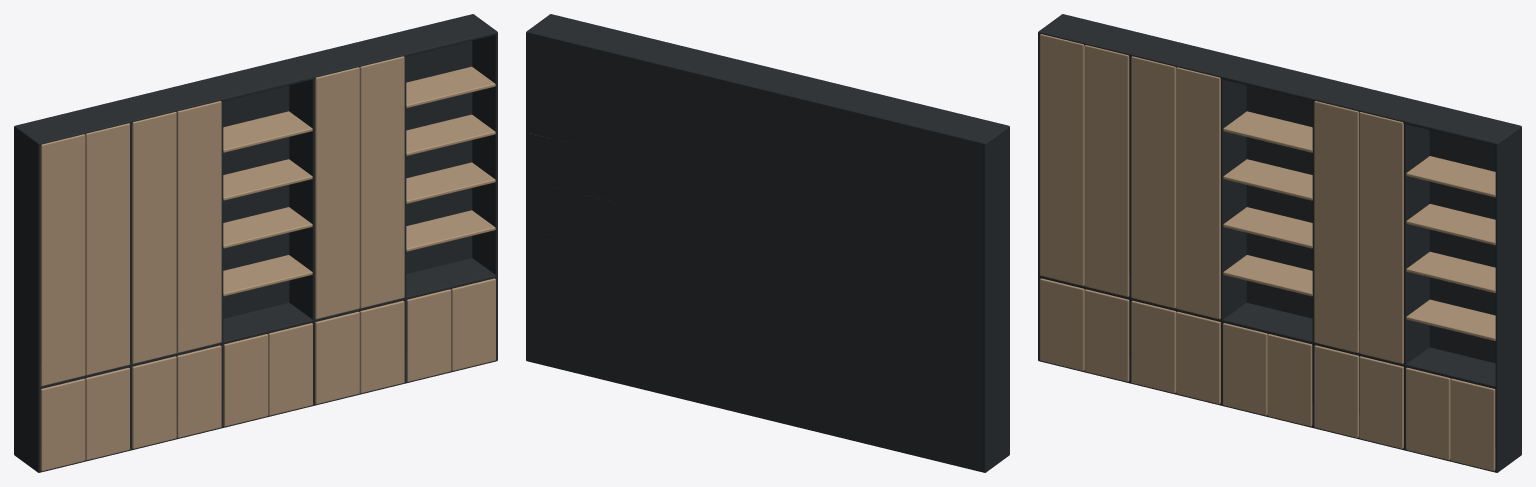
Rendered from 04_文件柜_独立办公室.glb.
3 renders of one model, left to right at view 1: azimuth 30°, elevation 25°; view 2: azimuth 150°, elevation 25°; view 3: azimuth 330°, elevation 25°, orthographic.
Parts seen in each view (by area): view 1: 柜背, 通长层板.002, 上柜门, 上柜门.005, 上柜门.001, 上柜门.004, 上柜门.002, 上柜门.003, 柜侧, 通长层板.001, 柜侧.005, 柜侧.003 (+22 smaller); view 2: 柜背, 通长层板.002, 柜侧, 通长层板, 柜侧.005; view 3: 柜背, 通长层板.002, 上柜门.002, 上柜门.001, 上柜门.003, 上柜门, 上柜门.004, 上柜门.005, 柜侧.005, 通长层板.001, 柜侧.002, 柜侧.004 (+22 smaller).
Part boxes in pixels (bbox=[...]): 柜背: bbox=[40, 41, 472, 446]; 通长层板.002: bbox=[16, 14, 496, 145]; 上柜门: bbox=[40, 134, 85, 386]; 上柜门.005: bbox=[359, 56, 404, 308]; 上柜门.001: bbox=[85, 123, 129, 375]; 上柜门.004: bbox=[315, 67, 359, 319]; 上柜门.002: bbox=[132, 112, 176, 363]; 上柜门.003: bbox=[177, 101, 221, 352]; 柜侧: bbox=[14, 125, 40, 472]; 通长层板.001: bbox=[40, 258, 496, 388]; 柜侧.005: bbox=[472, 14, 497, 361]; 柜侧.003: bbox=[289, 77, 314, 404]; 柜背: bbox=[527, 33, 983, 471]; 通长层板.002: bbox=[527, 14, 1007, 144]; 柜侧: bbox=[983, 125, 1009, 472]; 通长层板: bbox=[528, 359, 983, 472]; 柜侧.005: bbox=[526, 14, 551, 361]; 柜背: bbox=[1084, 57, 1495, 446]; 通长层板.002: bbox=[1039, 14, 1519, 145]; 上柜门.002: bbox=[1131, 56, 1176, 308]; 上柜门.001: bbox=[1084, 45, 1129, 296]; 上柜门.003: bbox=[1176, 67, 1220, 319]; 上柜门: bbox=[1040, 34, 1084, 285]; 上柜门.004: bbox=[1314, 101, 1358, 352]; 上柜门.005: bbox=[1359, 112, 1403, 363]; 柜侧.005: bbox=[1495, 125, 1521, 472]; 通长层板.001: bbox=[1039, 274, 1495, 388]; 柜侧.002: bbox=[1221, 77, 1246, 405]; 柜侧.004: bbox=[1404, 122, 1429, 448].
Size of the model in its own units: 4.52 by 3.1 by 0.4325.
